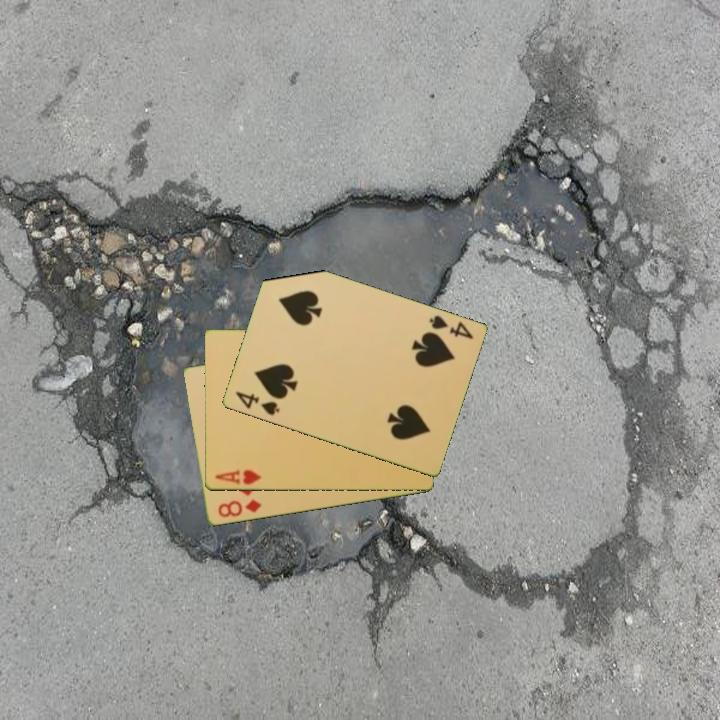4s: (232, 388, 283, 418), (425, 312, 475, 342)
8d: (214, 496, 264, 521)
Ah: (212, 466, 263, 488)
